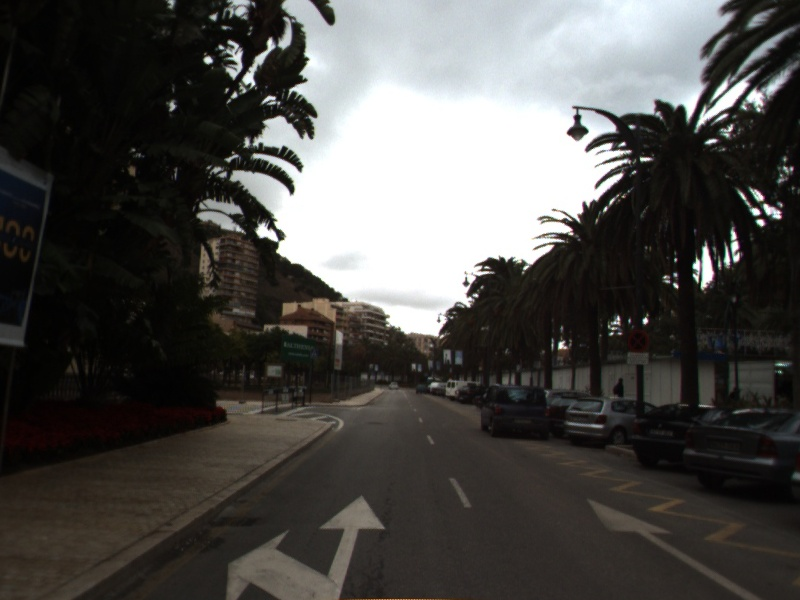STRAIGHT: (585, 495, 766, 600)
STRAIGHT_LEFT: (224, 493, 387, 600)
